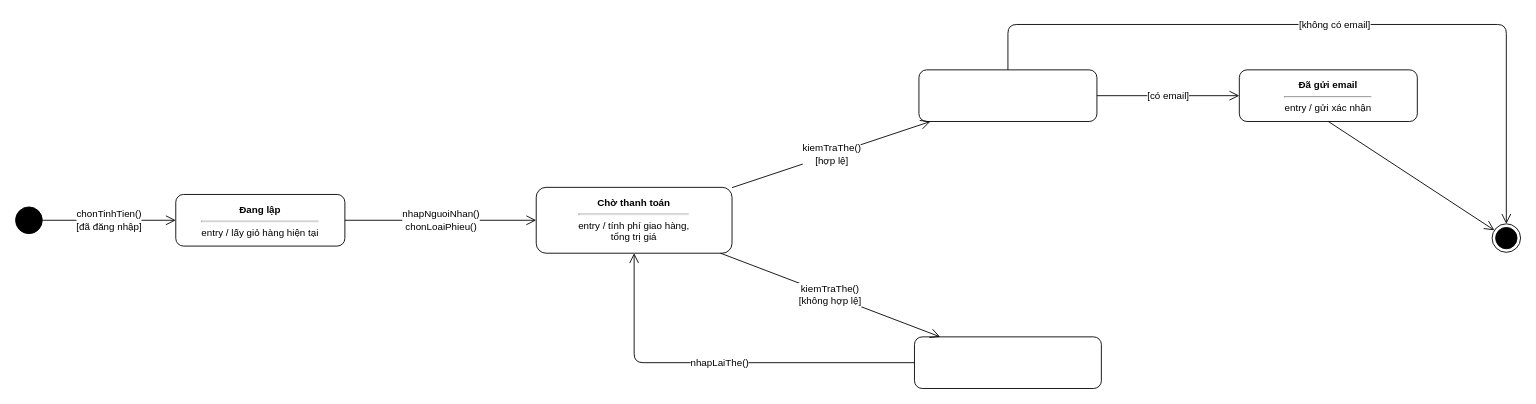
Some shapes in this 1536 by 404 pixel diagram are drawn without their labels. Here are the shapes that lost their labels. From the top down, the centre of each, then its label:
pixel 1007 95: Đã ghi nhận entry / lưu đơn đặt hàng
pixel 1007 362: Bị từ chối entry / báo thẻ không hợp lệ
